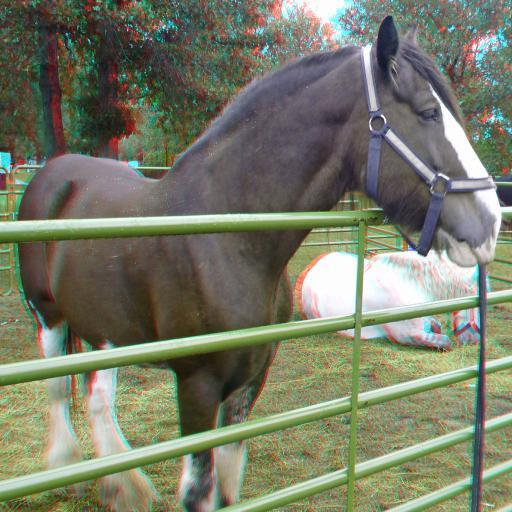horse: (16, 14, 501, 512)
